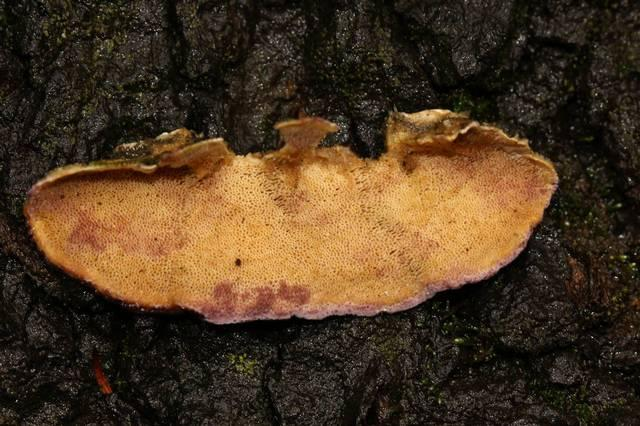Non-edible Mushroom: (21, 105, 560, 325)
